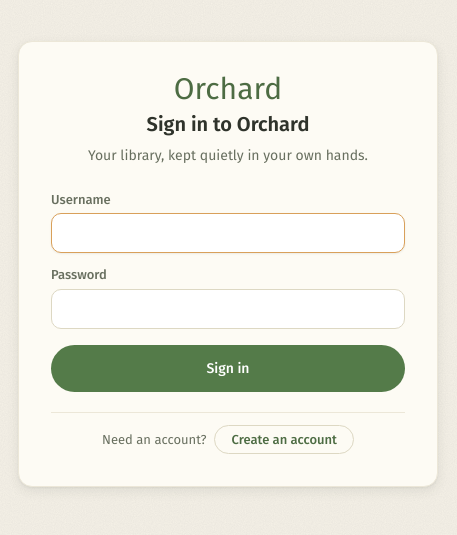
LoginPage › shows the server error message for bad credentials
Expected: the heading "Sign in to Orchard" is shown, x1=147 y1=112 x2=309 y2=137
Type "jishnu" into the field labelled "Username" at (228, 233), box x1=51 y1=213 x2=405 y2=253
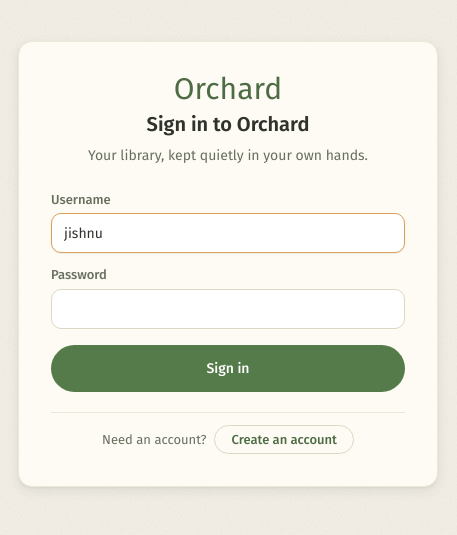
Type "s3cret" into the password field labelled "Password" at (228, 309), box x1=51 y1=289 x2=405 y2=329
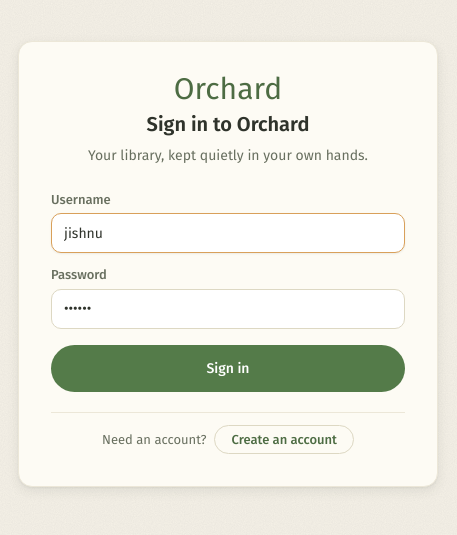
Click the button "Sign in" at (228, 368), box x1=51 y1=345 x2=405 y2=392
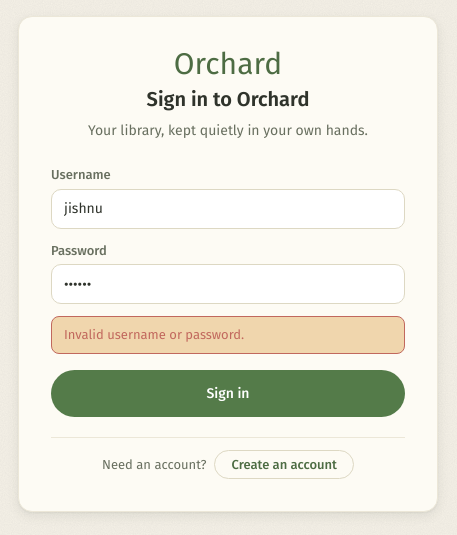
Expected: the message reads "Invalid username or password.", x1=64 y1=327 x2=244 y2=342
